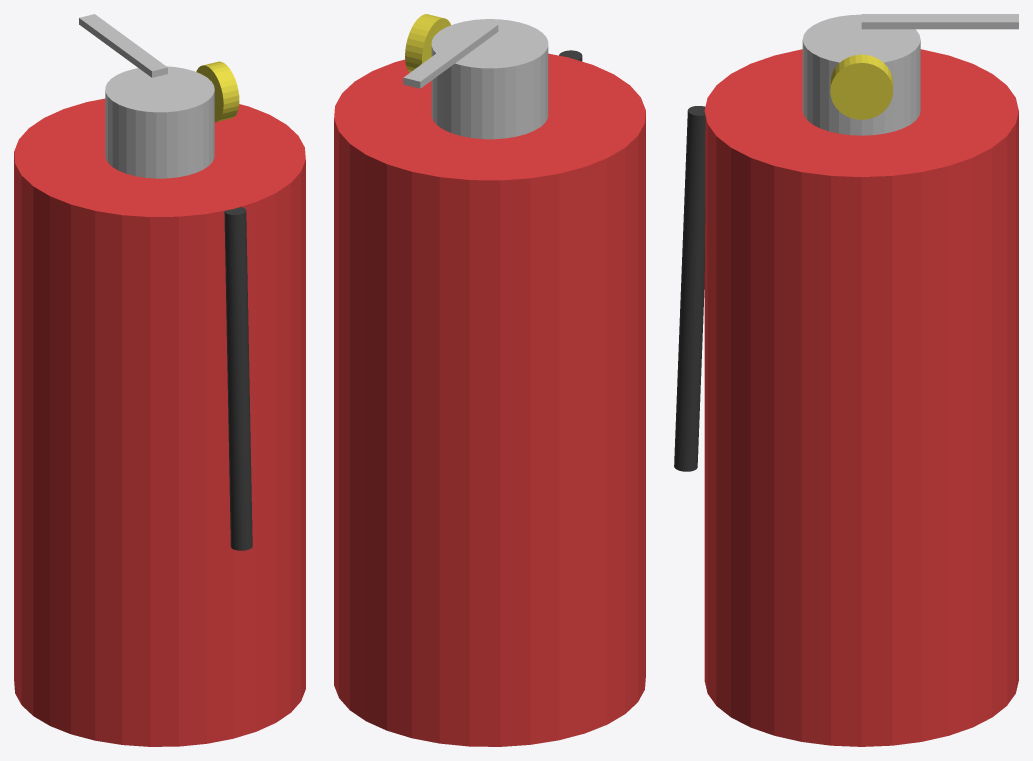
The model's file is fire_extingisher.fbx.
3 renders of one model, left to right at view 1: azimuth 30°, elevation 25°; view 2: azimuth 150°, elevation 25°; view 3: azimuth 270°, elevation 25°, orthographic. The views are drawn at different scales.
Visible parts, largest first — view 1: Pressure_Gauge; view 2: Pressure_Gauge; view 3: Pressure_Gauge.
Part boxes in pixels (<box>): Pressure_Gauge: <box>14,14,305,746</box>; Pressure_Gauge: <box>334,14,645,746</box>; Pressure_Gauge: <box>674,14,1018,746</box>.
Size of the model in its own units: 0.8 by 1.86 by 0.8774.
